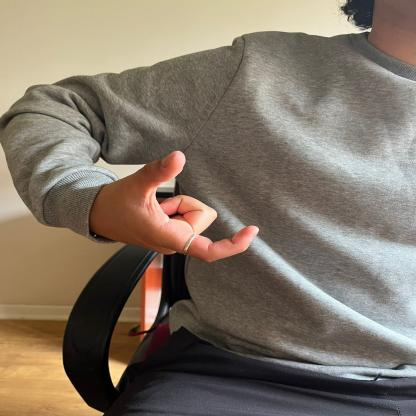G: (100, 146, 262, 261)
